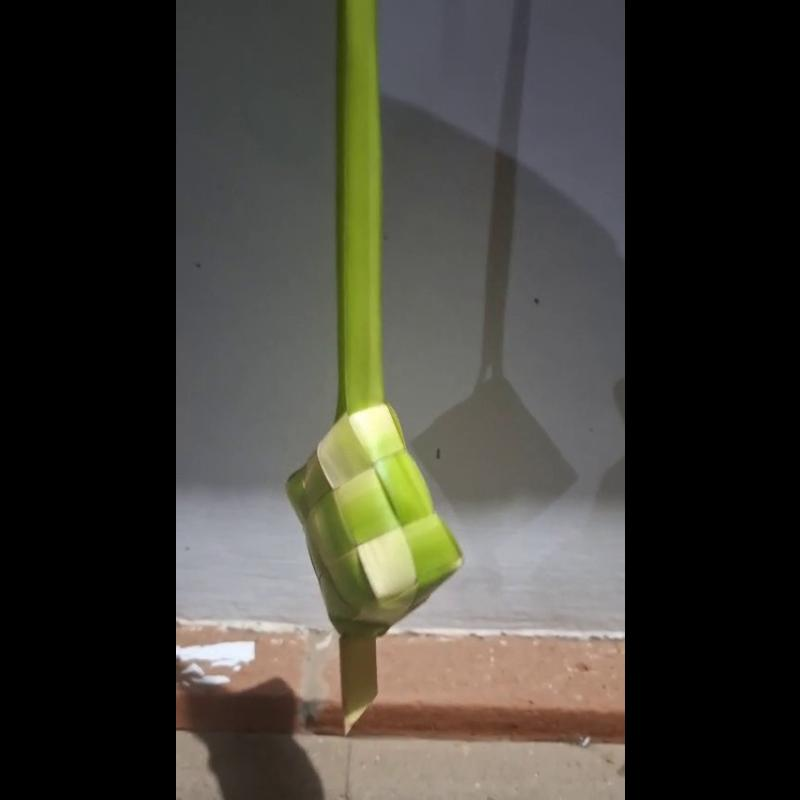Tipat Nasi: (280, 395, 473, 726)
